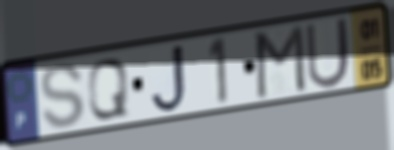1: (207, 35, 230, 107)
J: (149, 42, 190, 117)
M: (254, 22, 309, 102)
Q: (85, 56, 131, 123)
S: (38, 62, 87, 132)
U: (303, 14, 353, 91)
